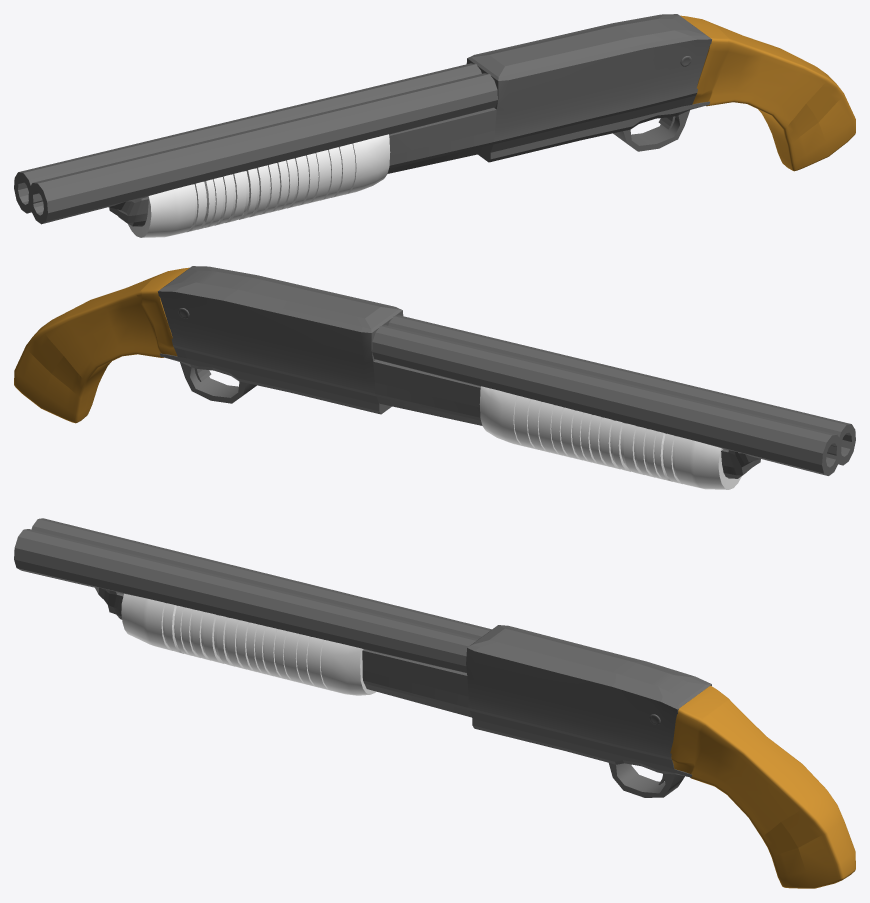
The model's file is Gun.fbx.
The picture shows the model from 3 angles, top to bottom: view 1: azimuth 30°, elevation 25°; view 2: azimuth 150°, elevation 25°; view 3: azimuth 330°, elevation 25°; orthographic projection.
Parts seen in each view (by area): view 1: Gun, HandleReload; view 2: Gun, HandleReload; view 3: Gun, HandleReload.
Boxes of the visible parts, left/top/right/bottom form: Gun: left=14, top=14, right=855, bottom=226; HandleReload: left=128, top=134, right=390, bottom=237; Gun: left=14, top=266, right=855, bottom=478; HandleReload: left=479, top=386, right=741, bottom=489; Gun: left=14, top=518, right=855, bottom=888; HandleReload: left=121, top=593, right=375, bottom=695.
Bounding box in the file's own units: 29.79 × 6.21 × 2.2.
